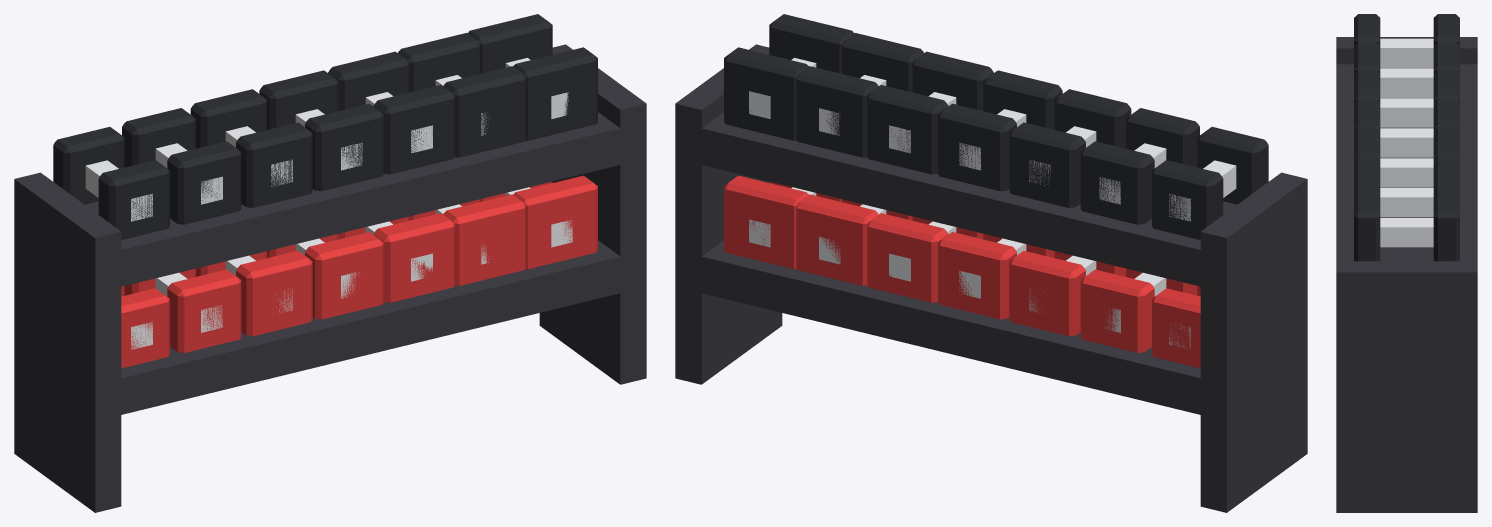
Rendered from DumbbellRack.fbx.
3 views of the same model, side by side, from view 1: azimuth 30°, elevation 25°; view 2: azimuth 150°, elevation 25°; view 3: azimuth 270°, elevation 25° (orthographic). The views are drawn at different scales.
Parts seen in each view (by area): view 1: DumbbellRack; view 2: DumbbellRack; view 3: DumbbellRack.
Boxes of the visible parts, x1=… form: DumbbellRack: x1=14, y1=14, x2=646, y2=512; DumbbellRack: x1=675, y1=14, x2=1307, y2=512; DumbbellRack: x1=1336, y1=14, x2=1477, y2=512.
Size of the model in its own units: 6.3 by 3.54 by 1.6.
1 material, 1 textured.
